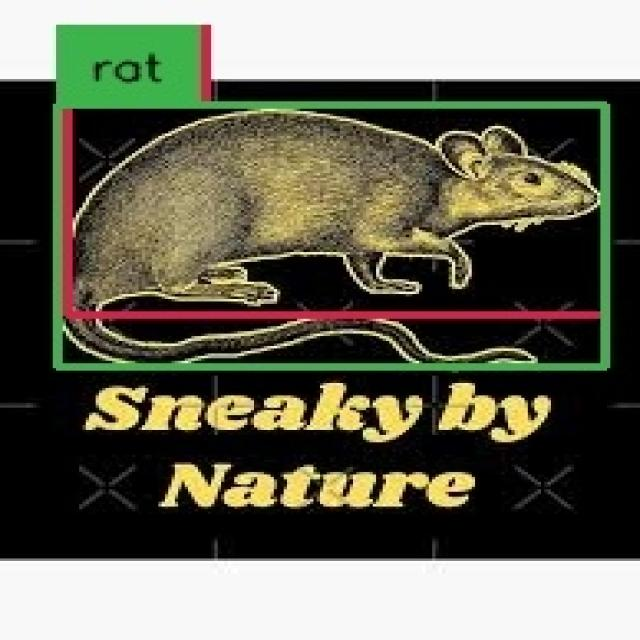rat: (56, 105, 607, 367), (68, 106, 605, 314)
